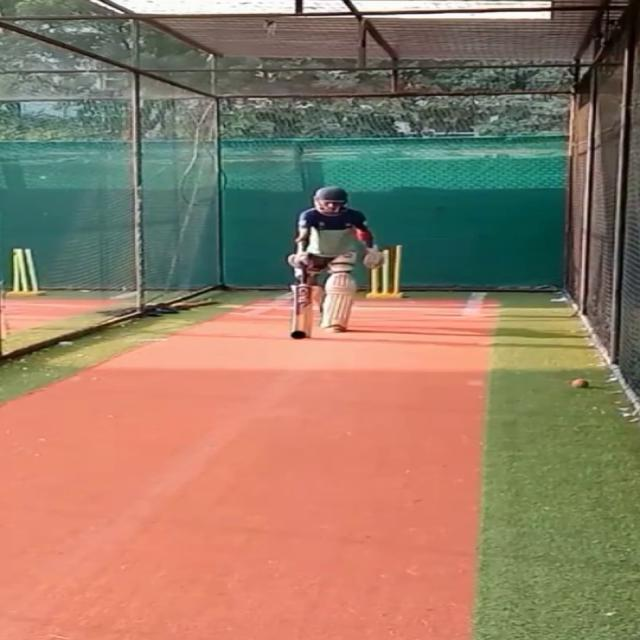ball: (570, 377, 593, 389)
stump: (368, 244, 407, 298)
